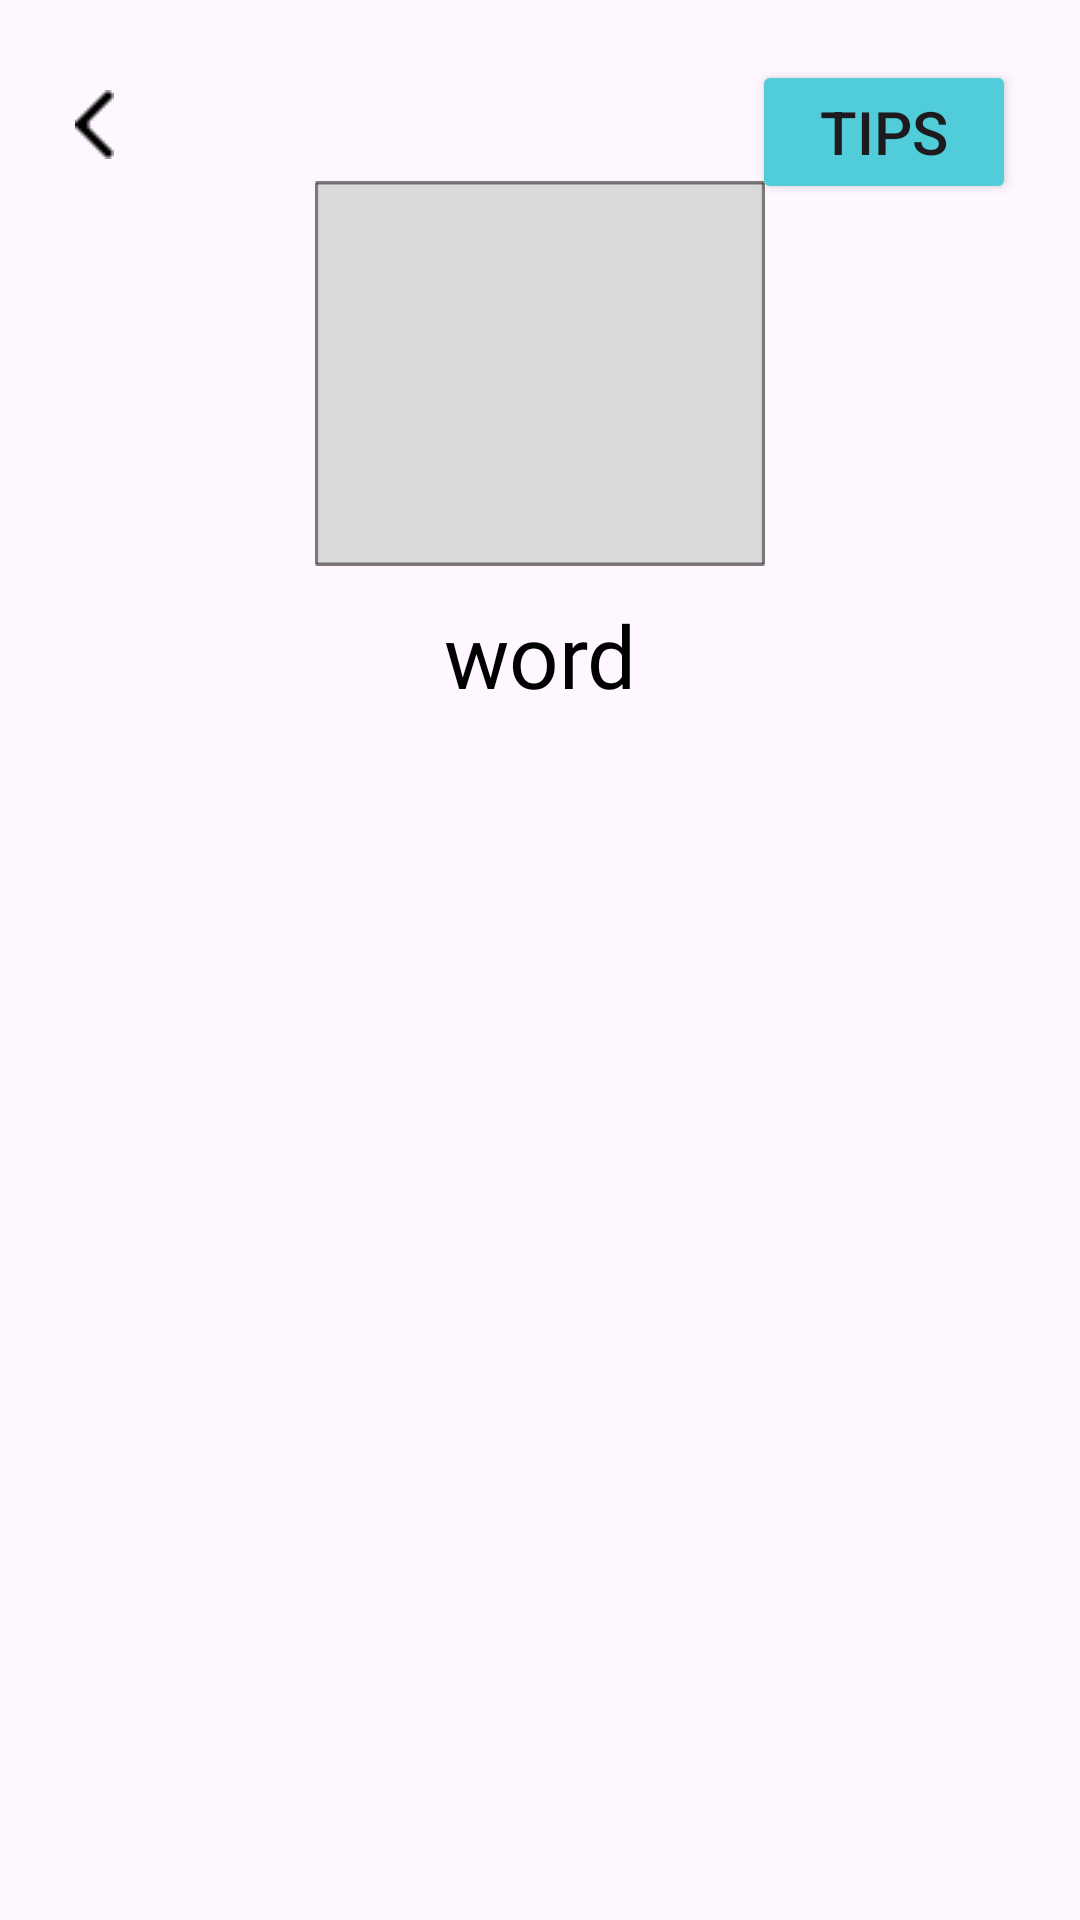

Icons on this 1080px x 1920px Android screen, each with the point to tap as [x,y]:
fword back: [94,124]
